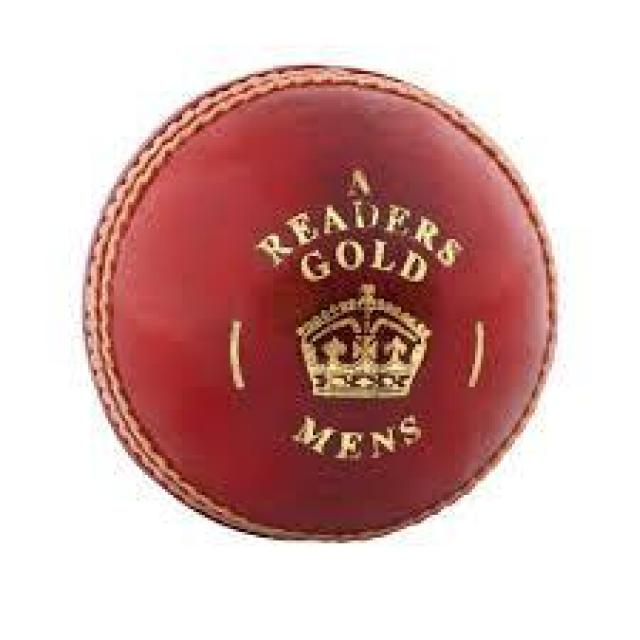ball: (83, 66, 563, 544)
